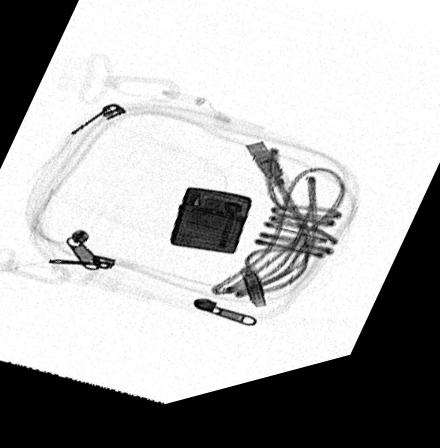Lighter: (169, 197, 253, 266)
